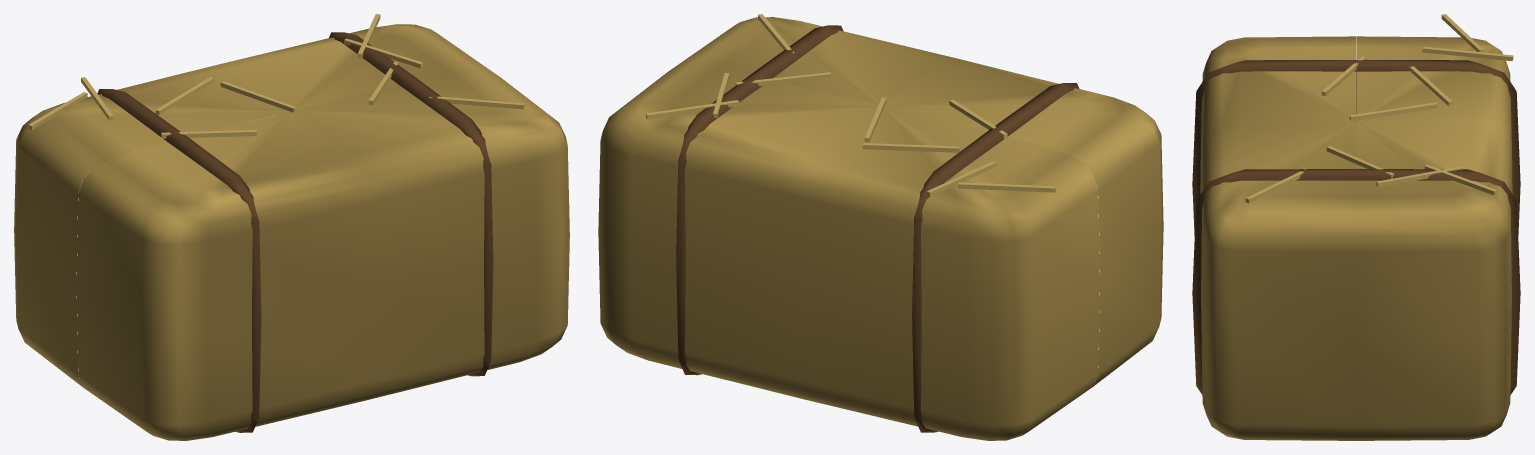
3 views of the same model, side by side, from view 1: azimuth 30°, elevation 25°; view 2: azimuth 150°, elevation 25°; view 3: azimuth 270°, elevation 25° (orthographic). The views are drawn at different scales.
Visible parts, largest first — view 1: Bale; view 2: Bale; view 3: Bale.
Part boxes in pixels (left/top/right/bottom): Bale: left=14, top=14, right=569, bottom=440; Bale: left=598, top=14, right=1163, bottom=440; Bale: left=1192, top=14, right=1520, bottom=440.
Size of the model in its own units: 1.31 by 0.74 by 0.89.
